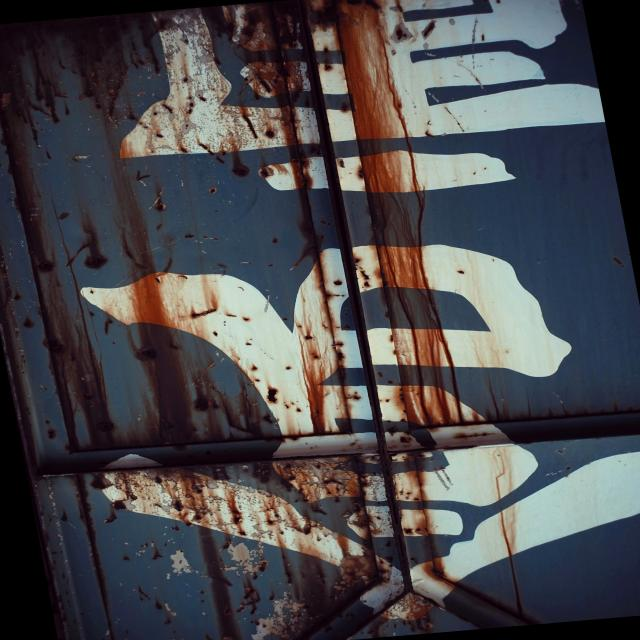rust: (0, 0, 640, 640), (73, 229, 584, 458), (323, 0, 469, 432)
